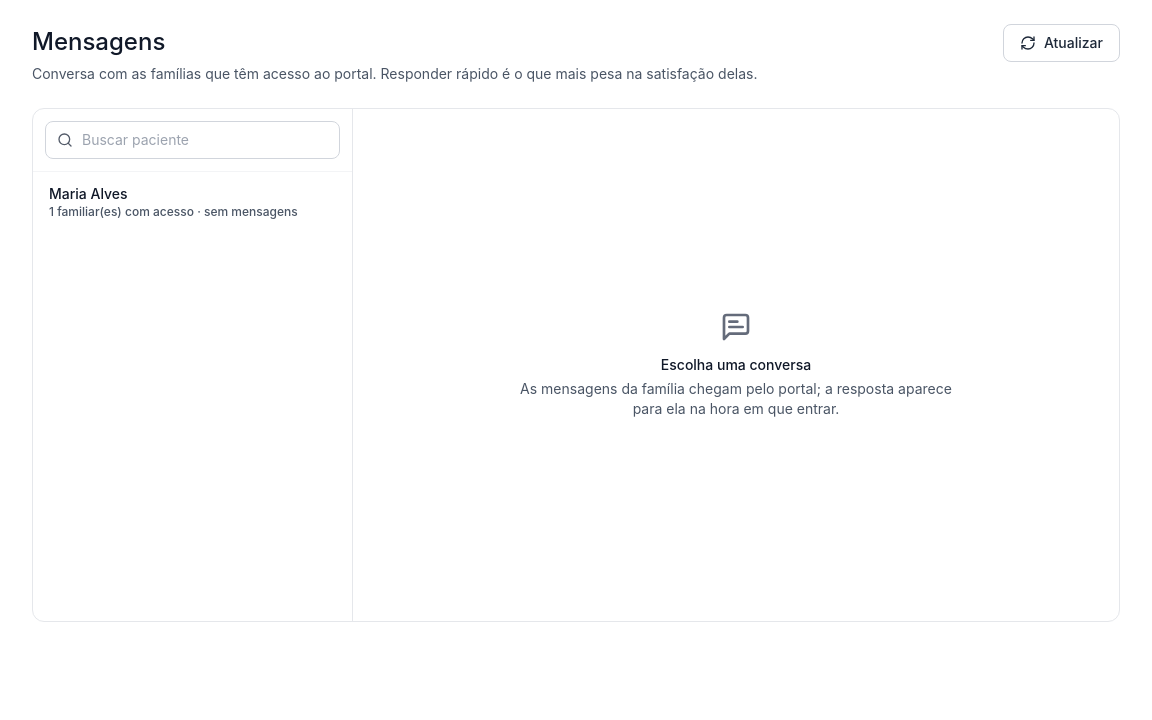
Test: Mensagens: conversa com a família › Enter envia a mensagem: ela aparece na conversa, o campo esvazia e a lista de conversas é buscada de novo
Click the button "Maria Alves 1 familiar(es) com acesso · sem mensagens" at (192, 202), box [33,172,352,232]
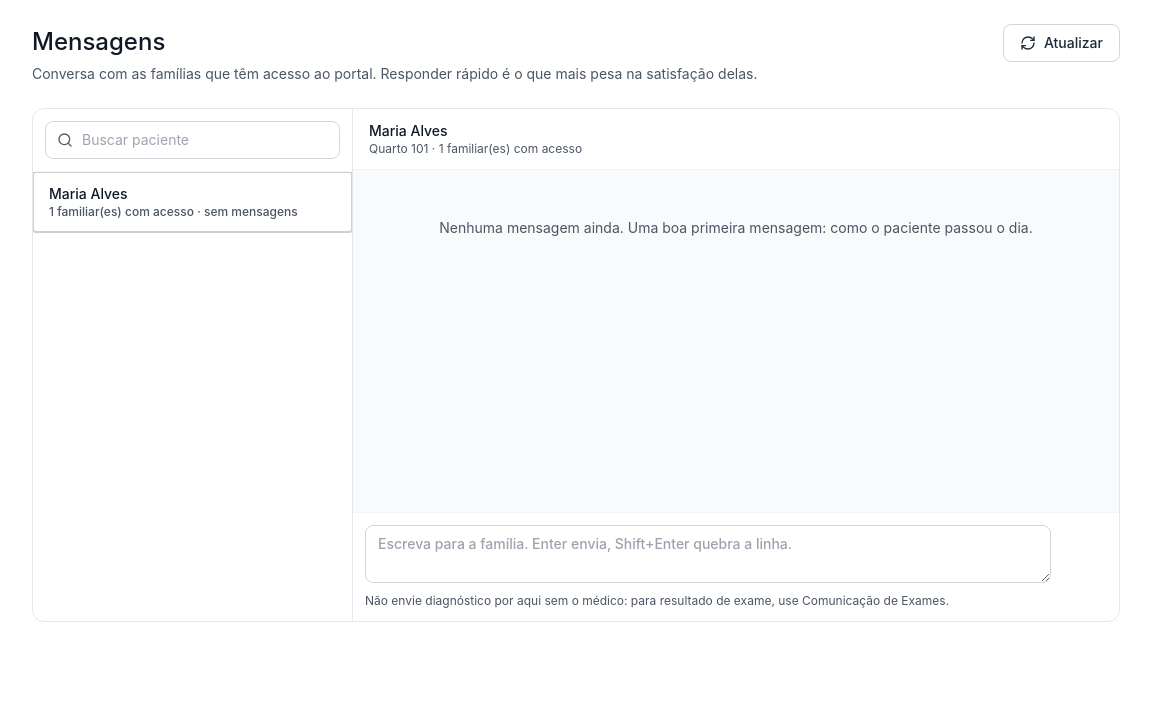
Type "Dona Maria passou bem o dia." into the text box named "Mensagem para a família" at (708, 554), box [365,525,1051,583]
Then press Enter
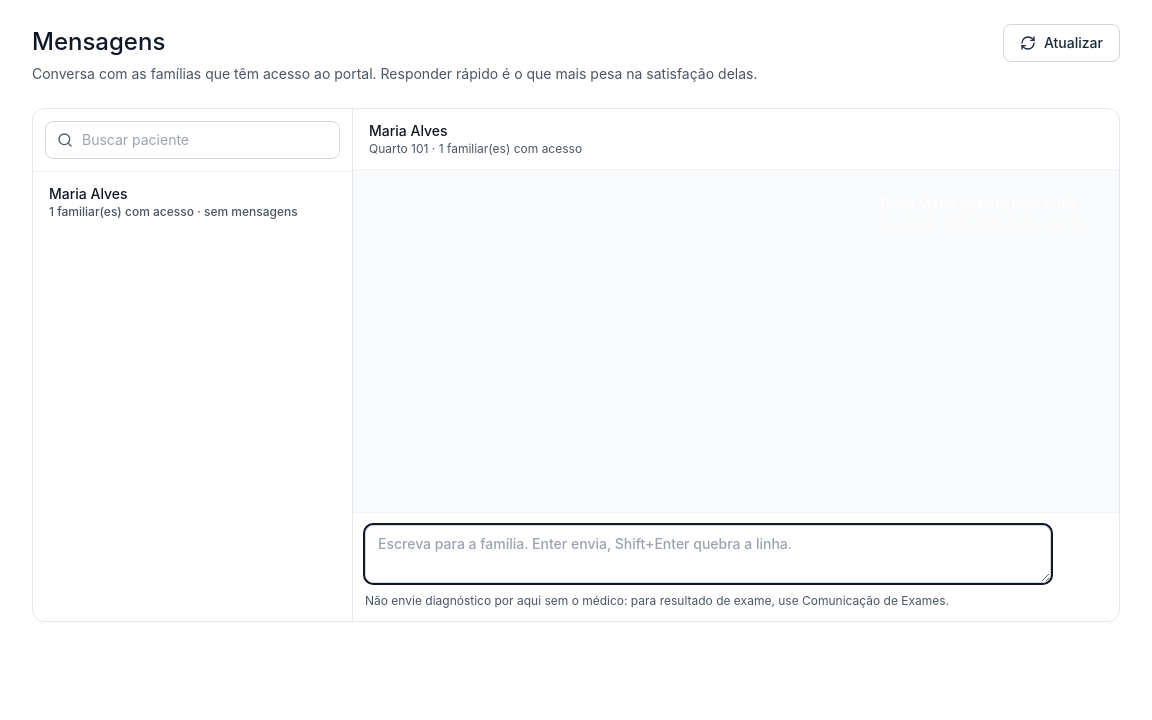
Check: the text box named "Mensagem para a família" is empty, box [365,525,1051,583]
